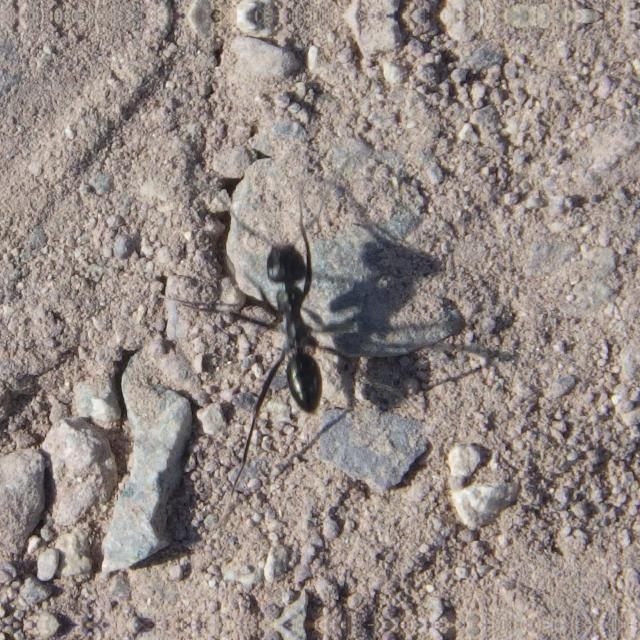Cataglyphis: (226, 227, 360, 437)
